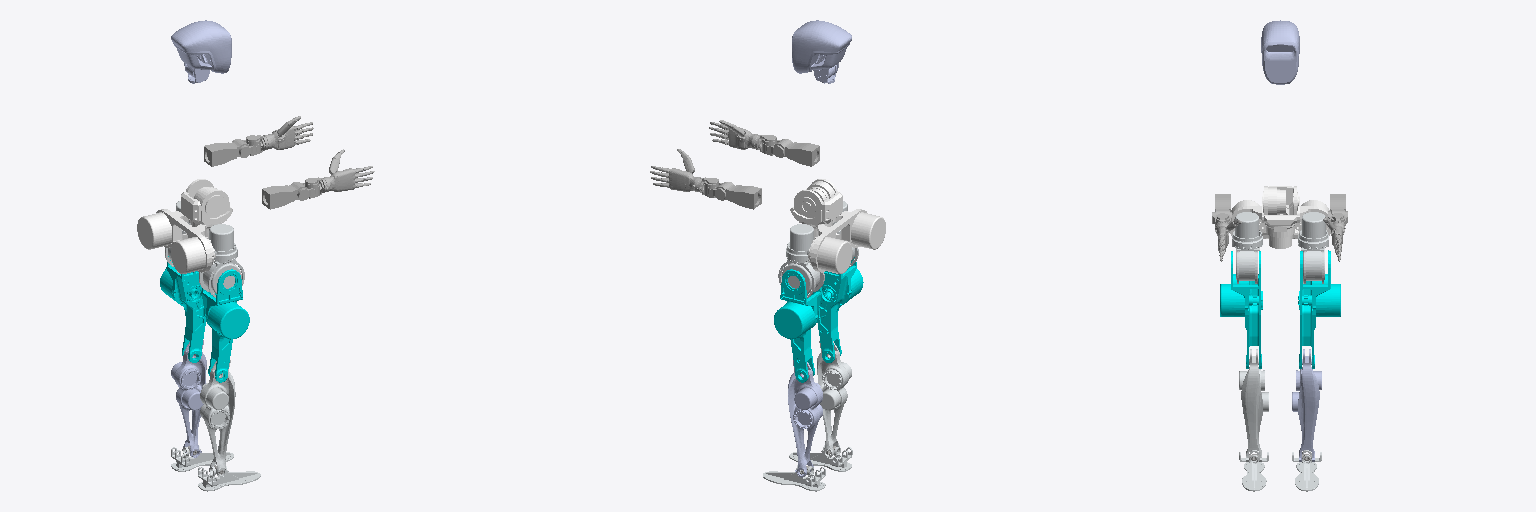
--- Render facts (derived) ---
The picture shows the robot from 3 angles, left to right: view 1: azimuth 30°, elevation 25°; view 2: azimuth 150°, elevation 25°; view 3: azimuth 270°, elevation 25°; orthographic projection.
Model Loong with 27 links and 26 joints (12 revolute, 14 fixed), rooted at base_link, posed all joints at 0.
Links seen in each view (by area): view 1: waist_yaw_Link, right_hip_pitch_Link, head_pitch_Link, right_knee_pitch_Link, left_hip_pitch_Link, Link_arm_r_05, Link_arm_l_05, left_knee_pitch_Link, waist_pitch_Link, right_ankle_roll_Link, right_hip_roll_Link, right_hip_yaw_Link (+1 smaller); view 2: waist_yaw_Link, left_hip_pitch_Link, head_pitch_Link, right_hip_pitch_Link, left_knee_pitch_Link, Link_arm_l_05, Link_arm_r_05, right_knee_pitch_Link, waist_pitch_Link, left_ankle_roll_Link, left_hip_roll_Link, left_hip_yaw_Link (+1 smaller); view 3: left_hip_pitch_Link, head_pitch_Link, right_hip_pitch_Link, left_knee_pitch_Link, right_knee_pitch_Link, waist_yaw_Link, waist_pitch_Link, Link_arm_r_05, left_hip_roll_Link, right_hip_roll_Link, Link_arm_l_05, right_ankle_roll_Link (+3 smaller).
Boxes of the visible links, x1,y1,x2,y2 form: waist_yaw_Link: (137, 209, 224, 273); right_hip_pitch_Link: (201, 269, 249, 382); head_pitch_Link: (171, 20, 231, 81); right_knee_pitch_Link: (200, 360, 235, 477); left_hip_pitch_Link: (160, 256, 205, 362); Link_arm_r_05: (262, 149, 374, 209); Link_arm_l_05: (204, 116, 313, 166); left_knee_pitch_Link: (171, 340, 206, 457); waist_pitch_Link: (181, 179, 232, 224); right_ankle_roll_Link: (198, 466, 260, 491); right_hip_roll_Link: (209, 224, 237, 263); right_hip_yaw_Link: (199, 259, 244, 297); waist_yaw_Link: (799, 209, 885, 273); left_hip_pitch_Link: (774, 269, 821, 382); head_pitch_Link: (792, 20, 851, 81); right_hip_pitch_Link: (817, 257, 863, 362); left_knee_pitch_Link: (788, 360, 822, 477); Link_arm_l_05: (650, 149, 761, 209); Link_arm_r_05: (709, 120, 819, 166); right_knee_pitch_Link: (817, 341, 851, 457); waist_pitch_Link: (790, 179, 842, 225); left_ankle_roll_Link: (763, 465, 825, 491); left_hip_roll_Link: (786, 224, 813, 263); left_hip_yaw_Link: (778, 259, 824, 297); left_hip_pitch_Link: (1298, 250, 1340, 368); head_pitch_Link: (1261, 20, 1299, 84); right_hip_pitch_Link: (1220, 251, 1262, 368); left_knee_pitch_Link: (1292, 349, 1321, 461); right_knee_pitch_Link: (1239, 349, 1268, 461); waist_yaw_Link: (1230, 200, 1330, 248); waist_pitch_Link: (1262, 186, 1299, 225); Link_arm_r_05: (1212, 194, 1241, 261); left_hip_roll_Link: (1298, 212, 1328, 249); right_hip_roll_Link: (1232, 212, 1262, 249); Link_arm_l_05: (1323, 194, 1347, 261); right_ankle_roll_Link: (1239, 450, 1268, 491).
Bounding box of the posed robot: 0.7669 × 0.4989 × 1.81 m (x, y, z).
18 mesh visuals loaded from 27 distinct referenced files (18 binary STL); not drawn: 9 (reference not matched to a file when rendering).

The robot description file, URDF, robot "Loong":
<?xml version="1.0" encoding="utf-8"?>
<!-- This URDF was automatically created by SolidWorks to URDF Exporter! Originally created by Stephen Brawner ([email redacted]) 
     Commit Version: 1.6.0-4-g7f85cfe  Build Version: 1.6.7995.38578
     For more information, please see http://wiki.ros.org/sw_urdf_exporter -->
<robot
  name="Loong">
  <mujoco>
    <compiler
      meshdir="meshes/"
      balanceinertia="true"
      discardvisual="false" />
  </mujoco>
  <link
    name="base_link">
    <inertial>
      <origin
        xyz="0.00071666 0.00012119 -0.00490208"
        rpy="0 0 0" />
      <mass
        value="25.21" />
      <inertia
        ixx="0.53369932"
        ixy="-0.00080377"
        ixz="0.02051517"
        iyy="0.50303113"
        iyz="-0.00159044"
        izz="0.29146615" />
    </inertial>
    <visual>
      <origin
        xyz="0 0 0"
        rpy="0 0 0" />
      <geometry>
        <mesh
          filename="meshes/base_link.STL" />
      </geometry>
      <material
        name="">
        <color
          rgba="0.79216 0.81961 0.93333 1" />
      </material>
    </visual>
    <collision>
      <origin
        xyz="0 0 0"
        rpy="0 0 0" />
      <geometry>
        <mesh
          filename="meshes/base_link.STL" />
      </geometry>
    </collision>
  </link>
  <link
    name="Link_arm_l_01">
    <inertial>
      <origin
        xyz="-0.0046426 0.0571151 -0.0000339"
        rpy="0 0 0" />
      <mass
        value="0.999469576" />
      <inertia
        ixx="0.0008199"
        ixy="0.0000161"
        ixz="0.0000013"
        iyy="0.0007528"
        iyz="0.0000001"
        izz="0.0009117" />
    </inertial>
    <visual>
      <origin
        xyz="0 0 0"
        rpy="0 0 0" />
      <geometry>
        <mesh
          filename="meshes/Link_arm_l_01.STL" />
      </geometry>
      <material
        name="">
        <color
          rgba="0.75294 0.75294 0.75294 1" />
      </material>
    </visual>
    <!-- <collision>
      <origin
        xyz="0 0 0"
        rpy="0 0 0" />
      <geometry>
        <mesh
          filename="meshes/Link_arm_l_01.STL" />
      </geometry>
    </collision> -->
  </link>
  <joint
    name="J_arm_l_01"
    type="fixed">
    <origin
      xyz="0.02 0.15 0.128"
      rpy="0 0 0" />
    <parent
      link="base_link" />
    <child
      link="Link_arm_l_01" />
    <axis
      xyz="0 -1 0" />
    <limit
      lower="-2.181661565"
      upper="3.752457892"
      effort="80"
      velocity="3.14" />
  </joint>
  <link
    name="Link_arm_l_02">
    <inertial>
      <origin
        xyz="-0.0010619 0.0788156 -0.0000094"
        rpy="0 0 0" />
      <mass
        value="1.2000362" />
      <inertia
        ixx="0.0018536"
        ixy="-0.0000661"
        ixz="0.0000007"
        iyy="0.0012457"
        iyz="0.0000001"
        izz="0.002266" />
    </inertial>
    <visual>
      <origin
        xyz="0 0 0"
        rpy="0 0 0" />
      <geometry>
        <mesh
          filename="meshes/Link_arm_l_02.STL" />
      </geometry>
      <material
        name="">
        <color
          rgba="0.75294 0.75294 0.75294 1" />
      </material>
    </visual>
    <!-- <collision>
      <origin
        xyz="0 0 0"
        rpy="0 0 0" />
      <geometry>
        <mesh
          filename="meshes/Link_arm_l_02.STL" />
      </geometry>
    </collision> -->
  </link>
  <joint
    name="J_arm_l_02"
    type="fixed">
    <origin
      xyz="0 0.062 0"
      rpy="-1.57 0 0" />
    <parent
      link="Link_arm_l_01" />
    <child
      link="Link_arm_l_02" />
    <axis
      xyz="1 0 0" />
    <limit
      lower="-1.832595715"
      upper="1.832595715"
      effort="80"
      velocity="3.14" />
  </joint>
  <link
    name="Link_arm_l_03">
    <inertial>
      <origin
        xyz="-0.0062837 0.1617365 0.020381"
        rpy="0 0 0" />
      <mass
        value="1.05028474" />
      <inertia
        ixx="0.0025455"
        ixy="0.000105"
        ixz="0.0000236"
        iyy="0.0007975"
        iyz="-0.0003435"
        izz="0.0024808" />
    </inertial>
    <visual>
      <origin
        xyz="0 0 0"
        rpy="0 0 0" />
      <geometry>
        <mesh
          filename="meshes/Link_arm_l_03.STL" />
      </geometry>
      <material
        name="">
        <color
          rgba="0.75294 0.75294 0.75294 1" />
      </material>
    </visual>
    <!-- <collision>
      <origin
        xyz="0 0 0"
        rpy="0 0 0" />
      <geometry>
        <mesh
          filename="meshes/Link_arm_l_03.STL" />
      </geometry>
    </collision> -->
  </link>
  <joint
    name="J_arm_l_03"
    type="fixed">
    <origin
      xyz="0 0.1226 -4.5237E-05"
      rpy="0 1.57 0" />
    <parent
      link="Link_arm_l_02" />
    <child
      link="Link_arm_l_03" />
    <axis
      xyz="0 1 0" />
    <limit
      lower="-2.967059728"
      upper="2.967059728"
      effort="48"
      velocity="3.14" />
  </joint>
  <link
    name="Link_arm_l_04">
    <inertial>
      <origin
        xyz="-0.0031896 0.0686669 -0.0204404"
        rpy="0 0 0" />
      <mass
        value="0.80390762" />
      <inertia
        ixx="0.0010455"
        ixy="-0.0001055"
        ixz="0.0000164"
        iyy="0.0006977"
        iyz="0.000155"
        izz="0.0013839" />
    </inertial>
    <visual>
      <origin
        xyz="0 0 0"
        rpy="0 0 0" />
      <geometry>
        <mesh
          filename="meshes/Link_arm_l_04.STL" />
      </geometry>
      <material
        name="">
        <color
          rgba="0.75294 0.75294 0.75294 1" />
      </material>
    </visual>
    <!-- <collision>
      <origin
        xyz="0 0 0"
        rpy="0 0 0" />
      <geometry>
        <mesh
          filename="meshes/Link_arm_l_04.STL" />
      </geometry>
    </collision> -->
  </link>
  <joint
    name="J_arm_l_04"
    type="fixed">
    <origin
      xyz="0 0.1774 0.024"
      rpy="1.57 0 0" />
    <parent
      link="Link_arm_l_03" />
    <child
      link="Link_arm_l_04" />
    <axis
      xyz="-1 0 0" />
    <limit
      lower="-2.967059728"
      upper="2.967059728"
      effort="48"
      velocity="3.14" />
  </joint>
  <link
    name="Link_arm_l_05">
    <inertial>
      <origin
        xyz="-0.0045361 0.0998432 -0.000004"
        rpy="0 0 0" />
      <mass
        value="0.80390762" />
      <inertia
        ixx="0.0022061"
        ixy="0.0001485"
        ixz="-0.0000004"
        iyy="0.0004108"
        iyz="-0.0000009"
        izz="0.0022172" />
    </inertial>
    <visual>
      <origin
        xyz="0 0 0"
        rpy="0 0 0" />
      <geometry>
        <mesh
          filename="meshes/Link_arm_l_567.STL" />
      </geometry>
      <material
        name="">
        <color
          rgba="0.75294 0.75294 0.75294 1" />
      </material>
    </visual>
    <!-- <collision>
      <origin
        xyz="0 0 0"
        rpy="0 0 0" />
      <geometry>
        <mesh
          filename="meshes/Link_arm_l_567.STL" />
      </geometry>
    </collision> -->
  </link>
  <joint
    name="J_arm_l_05"
    type="fixed">
    <origin
      xyz="0 0.107 -0.024"
      rpy="0 0 0" />
    <parent
      link="Link_arm_l_04" />
    <child
      link="Link_arm_l_05" />
    <axis
      xyz="0 1 0" />
    <limit
      lower="-2.967059728"
      upper="2.967059728"
      effort="12.4"
      velocity="3.14" />
  </joint>
  <link
    name="Link_arm_r_01">
    <inertial>
      <origin
        xyz="0.0046514 -0.0571164 -0.0000339"
        rpy="0 0 0" />
      <mass
        value="1.0002100" />
      <inertia
        ixx="0.0008199"
        ixy="0.0000161"
        ixz="-0.0000013"
        iyy="0.0007528"
        iyz="-0.0000001"
        izz="0.000911" />
    </inertial>
    <visual>
      <origin
        xyz="0 0 0"
        rpy="0 0 0" />
      <geometry>
        <mesh
          filename="meshes/Link_arm_r_01.STL" />
      </geometry>
      <material
        name="">
        <color
          rgba="0.75294 0.75294 0.75294 1" />
      </material>
    </visual>
    <!-- <collision>
      <origin
        xyz="0 0 0"
        rpy="0 0 0" />
      <geometry>
        <mesh
          filename="meshes/Link_arm_r_01.STL" />
      </geometry>
    </collision> -->
  </link>
  <joint
    name="J_arm_r_01"
    type="fixed">
    <origin
      xyz="0.02 -0.15 0.128"
      rpy="0 0 0" />
    <parent
      link="base_link" />
    <child
      link="Link_arm_r_01" />
    <axis
      xyz="0 -1 0" />
    <limit
      lower="-2.181661565"
      upper="3.752457892"
      effort="80"
      velocity="3.14" />
  </joint>
  <link
    name="Link_arm_r_02">
    <inertial>
      <origin
        xyz="0.0010619 -0.0788156 -0.0000094"
        rpy="0 0 0" />
      <mass
        value="1.19958456" />
      <inertia
        ixx="0.0018536"
        ixy="-0.0000661"
        ixz="-0.0000007"
        iyy="0.0012457"
        iyz="-0.0000001"
        izz="0.002266" />
    </inertial>
    <visual>
      <origin
        xyz="0 0 0"
        rpy="0 0 0" />
      <geometry>
        <mesh
          filename="meshes/Link_arm_r_02.STL" />
      </geometry>
      <material
        name="">
        <color
          rgba="0.75294 0.75294 0.75294 1" />
      </material>
    </visual>
    <!-- <collision>
      <origin
        xyz="0 0 0"
        rpy="0 0 0" />
      <geometry>
        <mesh
          filename="meshes/Link_arm_r_02.STL" />
      </geometry>
    </collision> -->
  </link>
  <joint
    name="J_arm_r_02"
    type="fixed">
    <origin
      xyz="0 -0.062 0"
      rpy="1.57 0 0" />
    <parent
      link="Link_arm_r_01" />
    <child
      link="Link_arm_r_02" />
    <axis
      xyz="1 0 0" />
    <limit
      lower="-1.8326"
      upper="1.8326"
      effort="80"
      velocity="3.14" />
  </joint>
  <link
    name="Link_arm_r_03">
    <inertial>
      <origin
        xyz="0.0062837 -0.1617365 0.020381"
        rpy="0 0 0" />
      <mass
        value="1.0507333" />
      <inertia
        ixx="0.0025455"
        ixy="0.000105"
        ixz="-0.0000236"
        iyy="0.0007975"
        iyz="0.0003435"
        izz="0.0024808" />
    </inertial>
    <visual>
      <origin
        xyz="0 0 0"
        rpy="0 0 0" />
      <geometry>
        <mesh
          filename="meshes/Link_arm_r_03.STL" />
      </geometry>
      <material
        name="">
        <color
          rgba="0.75294 0.75294 0.75294 1" />
      </material>
    </visual>
    <!-- <collision>
      <origin
        xyz="0 0 0"
        rpy="0 0 0" />
      <geometry>
        <mesh
          filename="meshes/Link_arm_r_03.STL" />
      </geometry>
    </collision> -->
  </link>
  <joint
    name="J_arm_r_03"
    type="fixed">
    <origin
      xyz="0 -0.1226 -4.5237E-05"
      rpy="0 1.57 0" />
    <parent
      link="Link_arm_r_02" />
    <child
      link="Link_arm_r_03" />
    <axis
      xyz="0 -1 0" />
    <limit
      lower="-2.967059728"
      upper="2.967059728"
      effort="48"
      velocity="3.14" />
  </joint>
  <link
    name="Link_arm_r_04">
    <inertial>
      <origin
        xyz="0.0031896 -0.0686669 -0.0204404"
        rpy="0 0 0" />
      <mass
        value="0.688970829" />
      <inertia
        ixx="0.0010455"
        ixy="-0.0001055"
        ixz="-0.0000164"
        iyy="0.0006977"
        iyz="-0.000155"
        izz="0.0013839" />
    </inertial>
    <visual>
      <origin
        xyz="0 0 0"
        rpy="0 0 0" />
      <geometry>
        <mesh
          filename="meshes/Link_arm_r_04.STL" />
      </geometry>
      <material
        name="">
        <color
          rgba="0.75294 0.75294 0.75294 1" />
      </material>
    </visual>
    <!-- <collision>
      <origin
        xyz="0 0 0"
        rpy="0 0 0" />
      <geometry>
        <mesh
          filename="meshes/Link_arm_r_04.STL" />
      </geometry>
    </collision> -->
  </link>
  <joint
    name="J_arm_r_04"
    type="fixed">
    <origin
      xyz="0 -0.1774 0.024045"
      rpy="-1.57 0 0" />
    <parent
      link="Link_arm_r_03" />
    <child
      link="Link_arm_r_04" />
    <axis
      xyz="1 0 0" />
    <limit
      lower="-2.967059728"
      upper="2.967059728"
      effort="48"
      velocity="3.14" />
  </joint>
  <link
    name="Link_arm_r_05">
    <inertial>
      <origin
        xyz="0.0045361 -0.0998432 -0.000004"
        rpy="0 0 0" />
      <mass
        value="0.80390762" />
      <inertia
        ixx="0.0022061"
        ixy="0.0001485"
        ixz="0.0000004"
        iyy="0.0004107"
        iyz="0.0000009"
        izz="0.0022172" />
    </inertial>
    <visual>
      <origin
        xyz="0 0 0"
        rpy="0 0 0" />
      <geometry>
        <mesh
          filename="meshes/Link_arm_r_567.STL" />
      </geometry>
      <material
        name="">
        <color
          rgba="0.75294 0.75294 0.75294 1" />
      </material>
    </visual>
    <!-- <collision>
      <origin
        xyz="0 0 0"
        rpy="0 0 0" />
      <geometry>
        <mesh
          filename="meshes/Link_arm_r_567.STL" />
      </geometry>
    </collision> -->
  </link>
  <joint
    name="J_arm_r_05"
    type="fixed">
    <origin
      xyz="0 -0.107 -0.024045"
      rpy="0 0 0" />
    <parent
      link="Link_arm_r_04" />
    <child
      link="Link_arm_r_05" />
    <axis
      xyz="0 -1 0" />
    <limit
      lower="-2.967059728"
      upper="2.967059728"
      effort="12.8"
      velocity="3.14" />
  </joint>
  <link
    name="head_yaw_Link">
    <inertial>
      <origin
        xyz="-0.0025482 0.0015048 0.023802"
        rpy="0 0 0" />
      <mass
        value="0.098" />
      <inertia
        ixx="8.89E-05"
        ixy="-2E-08"
        ixz="-3.49E-06"
        iyy="6.713E-05"
        iyz="-3.59E-06"
        izz="7.441E-05" />
    </inertial>
    <visual>
      <origin
        xyz="0 0 0"
        rpy="0 0 0" />
      <geometry>
        <mesh
          filename="meshes/head_yaw_Link.STL" />
      </geometry>
      <material
        name="">
        <color
          rgba="0.79216 0.81961 0.93333 1" />
      </material>
    </visual>
    <!-- <collision>
      <origin
        xyz="0 0 0"
        rpy="0 0 0" />
      <geometry>
        <mesh
          filename="meshes/head_yaw_Link.STL" />
      </geometry>
    </collision> -->
  </link>
  <joint
    name="head_yaw"
    type="fixed">
    <origin
      xyz="-0.014494 0.00098824 0.22972"
      rpy="0 0 0" />
    <parent
      link="base_link" />
    <child
      link="head_yaw_Link" />
    <axis
      xyz="0 0 1" />
    <limit
      lower="-1.570796"
      upper="1.570796"
      effort="26"
      velocity="109.8" />
  </joint>
  <link
    name="head_pitch_Link">
    <inertial>
      <origin
        xyz="0.040609 0.00054768 0.083175"
        rpy="0 0 0" />
      <mass
        value="1.895" />
      <inertia
        ixx="0.00876412"
        ixy="7.419E-05"
        ixz="-0.00074716"
        iyy="0.01113175"
        iyz="0.00014478"
        izz="0.00710425" />
    </inertial>
    <visual>
      <origin
        xyz="0 0 0"
        rpy="0 0 0" />
      <geometry>
        <mesh
          filename="meshes/head_pitch_Link.STL" />
      </geometry>
      <material
        name="">
        <color
          rgba="0.79216 0.81961 0.93333 1" />
      </material>
    </visual>
    <!-- <collision>
      <origin
        xyz="0 0 0"
        rpy="0 0 0" />
      <geometry>
        <mesh
          filename="meshes/head_pitch_Link.STL" />
      </geometry>
    </collision> -->
  </link>
  <joint
    name="head_pitch"
    type="fixed">
    <origin
      xyz="0 0 0.044"
      rpy="0 0 0" />
    <parent
      link="head_yaw_Link" />
    <child
      link="head_pitch_Link" />
    <axis
      xyz="0 1 0" />
    <limit
      lower="-0.7853982"
      upper="0.7853982"
      effort="26"
      velocity="109.8" />
  </joint>
  <link
    name="waist_pitch_Link">
    <inertial>
      <origin
        xyz="-0.0022566 -0.0084061 -0.015741"
        rpy="0 0 0" />
      <mass
        value="2.776" />
      <inertia
        ixx="0.007661"
        ixy="5.266E-05"
        ixz="2.581E-05"
        iyy="0.0064325"
        iyz="0.00039528"
        izz="0.0073467" />
    </inertial>
    <visual>
      <origin
        xyz="0 0 0"
        rpy="0 0 0" />
      <geometry>
        <mesh
          filename="meshes/waist_pitch_Link.STL" />
      </geometry>
      <material
        name="">
        <color
          rgba="1 1 1 1" />
      </material>
    </visual>
    <!-- <collision>
      <origin
        xyz="0 0 0"
        rpy="0 0 0" />
      <geometry>
        <mesh
          filename="meshes/waist_pitch_Link.STL" />
      </geometry>
    </collision> -->
  </link>
  <joint
    name="waist_pitch"
    type="fixed">
    <origin
      xyz="0.026331 0.00098824 -0.25604"
      rpy="0 0 0" />
    <parent
      link="base_link" />
    <child
      link="waist_pitch_Link" />
    <axis
      xyz="0 -1 0" />
    <limit
      lower="-0.2967"
      upper="1.0472"
      effort="315"
      velocity="3.14" />
  </joint>
  <link
    name="waist_yaw_Link">
    <inertial>
      <origin
        xyz="-0.086144 2.453E-05 -0.06455"
        rpy="0 0 0" />
      <mass
        value="10.326" />
      <inertia
        ixx="0.1193274"
        ixy="-1.48E-06"
        ixz="-0.00548656"
        iyy="0.05323762"
        iyz="-7E-07"
        izz="0.1483694" />
    </inertial>
    <visual>
      <origin
        xyz="0 0 0"
        rpy="0 0 0" />
      <geometry>
        <mesh
          filename="meshes/waist_yaw_Link.STL" />
      </geometry>
      <material
        name="">
        <color
          rgba="1 1 1 1" />
      </material>
    </visual>
    <!-- <collision>
      <origin
        xyz="0 0 0"
        rpy="0 0 0" />
      <geometry>
        <mesh
          filename="meshes/waist_yaw_Link.STL" />
      </geometry>
    </collision> -->
  </link>
  <joint
    name="waist_yaw"
    type="fixed">
    <origin
      xyz="0 0 -0.067"
      rpy="0 0 0" />
    <parent
      link="waist_pitch_Link" />
    <child
      link="waist_yaw_Link" />
    <axis
      xyz="0 0 1" />
    <limit
      lower="-0.7854"
      upper="0.7854"
      effort="121"
      velocity="5.92" />
  </joint>
  <link
    name="left_hip_roll_Link">
    <inertial>
      <origin
        xyz="-0.0071093 2.8357E-09 0.011648"
        rpy="0 0 0" />
      <mass
        value="2.2022" />
      <inertia
        ixx="0.00362811"
        ixy="2.0319E-10"
        ixz="-0.00016803"
        iyy="0.00450214"
        iyz="8.4518E-10"
        izz="0.00390996" />
    </inertial>
    <visual>
      <origin
        xyz="0 0 0"
        rpy="0 0 0" />
      <geometry>
        <mesh
          filename="meshes/left_hip_roll_Link.STL" />
      </geometry>
      <material
        name="">
        <color
          rgba="0.89804 0.91765 0.92941 1" />
      </material>
    </visual>
    <!-- <collision>
      <origin
        xyz="0 0 0"
        rpy="0 0 0" />
      <geometry>
        <mesh
          filename="meshes/left_hip_roll_Link.STL" />
      </geometry>
    </collision> -->
  </link>
  <joint
    name="J_hip_l_roll"
    type="revolute">
    <origin
      xyz="-0.00925 0.1225 -0.073"
      rpy="0 0 0" />
    <parent
      link="waist_yaw_Link" />
    <child
      link="left_hip_roll_Link" />
    <axis
      xyz="1 0 0" />
    <limit
      lower="-0.1745"
      upper="0.4363"
      effort="320"
      velocity="20.94" />
  </joint>
  <link
    name="left_hip_yaw_Link">
    <inertial>
      <origin
        xyz="-0.00015478 -0.00018896 -0.10934"
        rpy="0 0 0" />
      <mass
        value="2.9844" />
      <inertia
        ixx="0.00617341"
        ixy="1.4537E-05"
        ixz="2.176E-05"
        iyy="0.00757524"
        iyz="9.283E-05"
        izz="0.0050241" />
    </inertial>
    <visual>
      <origin
        xyz="0 0 0"
        rpy="0 0 0" />
      <geometry>
        <mesh
          filename="meshes/left_hip_yaw_Link.STL" />
      </geometry>
      <material
        name="">
        <color
          rgba="0.89804 0.91765 0.92941 1" />
      </material>
    </visual>
    <!-- <collision>
      <origin
        xyz="0 0 0"
        rpy="0 0 0" />
      <geometry>
        <mesh
          filename="meshes/left_hip_yaw_Link.STL" />
      </geometry>
    </collision> -->
  </link>
  <joint
    name="J_hip_l_yaw"
    type="revolute">
    <origin
      xyz="0 0 0"
      rpy="0 0 0" />
    <parent
      link="left_hip_roll_Link" />
    <child
      link="left_hip_yaw_Link" />
    <axis
      xyz="0 0 1" />
    <limit
      lower="-0.6981"
      upper="0.6981"
      effort="160"
      velocity="19.63" />
  </joint>
  <link
    name="left_hip_pitch_Link">
    <inertial>
      <origin
        xyz="0.00177882 0.05261815 -0.15609768"
        rpy="0 0 0" />
      <mass
        value="6.27653015" />
      <inertia
        ixx="0.06504876"
        ixy="0.00046758"
        ixz="0.00145443"
        iyy="0.05963724"
        iyz="-0.00612516"
        izz="0.01840258" />
    </inertial>
    <visual>
      <origin
        xyz="0 0 0"
        rpy="0 0 0" />
      <geometry>
        <mesh
          filename="meshes/left_hip_pitch_Link.STL" />
      </geometry>
      <material
        name="">
        <color
          rgba="0 0.97647 0.98824 1" />
      </material>
    </visual>
    <!-- <collision>
      <origin
        xyz="0 0 0"
        rpy="0 0 0" />
      <geometry>
        <mesh
          filename="meshes/left_hip_pitch_Link.STL" />
      </geometry>
    </collision> -->
  </link>
  <joint
    name="J_hip_l_pitch"
    type="revolute">
    <origin
      xyz="0 -0.039 -0.1155"
      rpy="0 0 0" />
    <parent
      link="left_hip_yaw_Link" />
    <child
      link="left_hip_pitch_Link" />
    <axis
      xyz="0 -1 0" />
    <limit
      lower="-1.3439"
      upper="1.8849"
      effort="396"
      velocity="19.16" />
  </joint>
  <link
    name="left_knee_pitch_Link">
    <inertial>
      <origin
        xyz="0.00330593 0.00172774 -0.13555163"
        rpy="0 0 0" />
      <mass
        value="4.8125541" />
      <inertia
        ixx="0.04565419"
        ixy="-0.00023225"
        ixz="-0.00055359"
        iyy="0.0475434"
        iyz="-0.00053687"
        izz="0.00576172" />
    </inertial>
    <visual>
      <origin
        xyz="0 0 0"
        rpy="0 0 0" />
      <geometry>
        <mesh
          filename="meshes/left_knee_pitch_Link.STL" />
      </geometry>
      <material
        name="">
        <color
          rgba="0.79216 0.81961 0.93333 1" />
      </material>
    </visual>
    <collision>
      <origin
        xyz="0 0 0"
        rpy="0 0 0" />
      <geometry>
        <mesh
          filename="meshes/left_knee_pitch_Link.STL" />
      </geometry>
    </collision>
  </link>
  <joint
    name="J_knee_l_pitch"
    type="revolute">
    <origin
      xyz="0 0.0135 -0.4"
      rpy="0 0 0" />
    <parent
      link="left_hip_pitch_Link" />
    <child
      link="left_knee_pitch_Link" />
    <axis
      xyz="0 -1 0" />
    <limit
      lower="-2.0944"
      upper="0.087266"
      effort="396"
      velocity="19.16" />
  </joint>
  <link
    name="left_ankle_pitch_Link">
    <inertial>
      <origin
        xyz="-7.8908E-07 5.0819E-07 1.9225E-08"
        rpy="0 0 0" />
      <mass
        value="0.053498" />
      <inertia
        ixx="1.1895E-05"
        ixy="4.7402E-11"
        ixz="9.4436E-13"
        iyy="3.3766E-06"
        iyz="-1.8984E-11"
        izz="1.1543E-05" />
    </inertial>
    <visual>
      <origin
        xyz="0 0 0"
        rpy="0 0 0" />
      <geometry>
        <mesh
          filename="meshes/left_ankle_pitch_Link.STL" />
      </geometry>
      <material
        name="">
        <color
          rgba="0.69804 0.69804 0.69804 1" />
      </material>
    </visual>
    <!-- <collision>
      <origin
        xyz="0 0 0"
        rpy="0 0 0" />
      <geometry>
        <mesh
          filename="meshes/left_ankle_pitch_Link.STL" />
      </geometry>
    </collision> -->
  </link>
  <joint
    name="J_ankle_l_pitch"
    type="revolute">
    <origin
      xyz="0 0 -0.387"
      rpy="0 0 0" />
    <parent
      link="left_knee_pitch_Link" />
    <child
      link="left_ankle_pitch_Link" />
    <axis
      xyz="0 -1 0" />
    <limit
      lower="-0.5235987"
      upper="1.04719755"
      effort="58.5"
      velocity="48.8" />
  </joint>
  <link
    name="left_ankle_roll_Link">
    <inertial>
      <origin
        xyz="0.022588 6.3181E-06 -0.042746"
        rpy="0 0 0" />
      <mass
        value="0.56912" />
      <inertia
        ixx="0.00036156"
        ixy="-6.5455E-07"
        ixz="-0.00022453"
        iyy="0.0023159"
        iyz="-5.0555E-08"
        izz="0.0023809" />
    </inertial>
    <visual>
      <origin
        xyz="0 0 0"
        rpy="0 0 0" />
      <geometry>
        <mesh
          filename="meshes/left_ankle_roll_Link.STL" />
      </geometry>
      <material
        name="">
        <color
          rgba="0.89804 0.91765 0.92941 1" />
      </material>
    </visual>
    <!-- <collision>
      <origin
        xyz="0 0 0"
        rpy="0 0 0" />
      <geometry>
        <mesh
          filename="meshes/left_ankle_roll_Link.STL" />
      </geometry>
    </collision> -->
    <!-- <collision>
      <origin xyz="-0.05 0.03 -0.05" rpy="0 0 0"/>
      <geometry>
        <sphere radius="0.01"/>
      </geometry>
    </collision>
    <collision>
      <origin xyz="-0.05 -0.03 -0.05" rpy="0 0 0"/>
      <geometry>
        <sphere radius="0.01"/>
      </geometry>
    </collision>
    <collision>
      <origin xyz="0.13 0.04 -0.05" rpy="0 0 0"/>
      <geometry>
        <sphere radius="0.01"/>
      </geometry>
    </collision>
    <collision>
      <origin xyz="0.13 -0.04 -0.05" rpy="0 0 0"/>
      <geometry>
        <sphere radius="0.01"/>
      </geometry>
    </collision> -->
    <collision>
            <origin rpy="0.00000000 1.5708 0.00000000" xyz="0.0485000 -0.04000000 -0.05600000"/>
            <geometry>
                <cylinder radius="0.00500000" length="0.2400000"/>
            </geometry>
    </collision>
    <collision>
    <origin rpy="0.00000000 1.5708 0.00000000" xyz="0.0485000 0.04000000 -0.05600000"/>
            <geometry>
                <!-- <sphere radius="0.02" /> -->
                <cylinder radius="0.00500000" length="0.2400000"/>
            </geometry>
    </collision>
  </link>
  <joint
    name="J_ankle_l_roll"
    type="revolute">
    <origin
      xyz="0 0 0"
      rpy="0 0 0" />
    <parent
      link="left_ankle_pitch_Link" />
    <child
      link="left_ankle_roll_Link" />
    <axis
      xyz="1 0 0" />
    <limit
      lower="-0.4363323"
      upper="0.4363323"
      effort="58.5"
      velocity="48.8" />
  </joint>
  <link
    name="right_hip_roll_Link">
    <inertial>
      <origin
        xyz="-0.0071093 2.8357E-09 0.011648"
        rpy="0 0 0" />
      <mass
        value="2.2022" />
      <inertia
        ixx="0.00362811"
        ixy="2.0319E-10"
        ixz="-0.00016803"
        iyy="0.00450214"
        iyz="8.4518E-10"
        izz="0.00390996" />
    </inertial>
    <visual>
      <origin
        xyz="0 0 0"
        rpy="0 0 0" />
      <geometry>
        <mesh
          filename="meshes/right_hip_roll_Link.STL" />
      </geometry>
      <material
        name="">
        <color
          rgba="0.89804 0.91765 0.92941 1" />
      </material>
    </visual>
    <!-- <collision>
      <origin
        xyz="0 0 0"
        rpy="0 0 0" />
      <geometry>
        <mesh
          filename="meshes/right_hip_roll_Link.STL" />
      </geometry>
    </collision> -->
  </link>
  <joint
    name="J_hip_r_roll"
    type="revolute">
    <origin
      xyz="-0.00925 -0.1225 -0.073"
      rpy="0 0 0" />
    <parent
      link="waist_yaw_Link" />
    <child
      link="right_hip_roll_Link" />
    <axis
      xyz="1 0 0" />
    <limit
      lower="-0.4363"
      upper="0.1745"
      effort="320"
      velocity="20.94" />
  </joint>
  <link
    name="right_hip_yaw_Link">
    <inertial>
      <origin
        xyz="-0.00015477 0.00019016 -0.1093378"
        rpy="0 0 0" />
      <mass
        value="2.9842" />
      <inertia
        ixx="0.0061728"
        ixy="1.933E-05"
        ixz="2.177E-05"
        iyy="0.0075744"
        iyz="-9.257E-05"
        izz="0.0050233" />
    </inertial>
    <visual>
      <origin
        xyz="0 0 0"
        rpy="0 0 0" />
      <geometry>
        <mesh
          filename="meshes/right_hip_yaw_Link.STL" />
      </geometry>
      <material
        name="">
        <color
          rgba="0.89804 0.91765 0.92941 1" />
      </material>
    </visual>
    <!-- <collision>
      <origin
        xyz="0 0 0"
        rpy="0 0 0" />
      <geometry>
        <mesh
          filename="meshes/right_hip_yaw_Link.STL" />
      </geometry>
    </collision> -->
  </link>
  <joint
    name="J_hip_r_yaw"
    type="revolute">
    <origin
      xyz="0 0 0"
      rpy="0 0 0" />
    <parent
      link="right_hip_roll_Link" />
    <child
      link="right_hip_yaw_Link" />
    <axis
      xyz="0 0 1" />
    <limit
      lower="-0.6981"
      upper="0.6981"
      effort="160"
      velocity="19.63" />
  </joint>
  <link
    name="right_hip_pitch_Link">
    <inertial>
      <origin
        xyz="0.00176813 -0.05261512 -0.15611085"
        rpy="0 0 0" />
      <mass
        value="6.27653015" />
      <inertia
        ixx="0.06508151"
        ixy="-0.00046139"
        ixz="0.00145675"
        iyy="0.05966725"
        iyz="0.00613035"
        izz="0.01840604" />
    </inertial>
    <visual>
      <origin
        xyz="0 0 0"
        rpy="0 0 0" />
      <geometry>
        <mesh
          filename="meshes/right_hip_pitch_Link.STL" />
      </geometry>
      <material
        name="">
        <color
          rgba="0 0.97647 0.98824 1" />
      </material>
    </visual>
    <!-- <collision>
      <origin
        xyz="0 0 0"
        rpy="0 0 0" />
      <geometry>
        <mesh
          filename="meshes/right_hip_pitch_Link.STL" />
      </geometry>
    </collision> -->
  </link>
  <joint
    name="J_hip_r_pitch"
    type="revolute">
    <origin
      xyz="0 0.039 -0.1155"
      rpy="0 0 0" />
    <parent
      link="right_hip_yaw_Link" />
    <child
      link="right_hip_pitch_Link" />
    <axis
      xyz="0 -1 0" />
    <limit
      lower="-1.3439"
      upper="1.8849"
      effort="396"
      velocity="19.16" />
  </joint>
  <link
    name="right_knee_pitch_Link">
    <inertial>
      <origin
        xyz="0.0032528 -0.00171723 -0.13549889"
        rpy="0 0 0" />
      <mass
        value="4.8125541" />
      <inertia
        ixx="0.0455335"
        ixy="0.00023402"
        ixz="-0.00054369"
        iyy="0.04740716"
        iyz="0.00052254"
        izz="0.00576618" />
    </inertial>
    <visual>
      <origin
        xyz="0 0 0"
        rpy="0 0 0" />
      <geometry>
        <mesh
          filename="meshes/right_knee_pitch_Link.STL" />
      </geometry>
      <material
        name="">
        <color
          rgba="0.89804 0.91765 0.92941 1" />
      </material>
    </visual>
    <collision>
      <origin
        xyz="0 0 0"
        rpy="0 0 0" />
      <geometry>
        <mesh
          filename="meshes/right_knee_pitch_Link.STL" />
      </geometry>
    </collision>
  </link>
  <joint
    name="J_knee_r_pitch"
    type="revolute">
    <origin
      xyz="0 -0.0135 -0.4"
      rpy="0 0 0" />
    <parent
      link="right_hip_pitch_Link" />
    <child
      link="right_knee_pitch_Link" />
    <axis
      xyz="0 -1 0" />
    <limit
      lower="-2.0944"
      upper="0.087266"
      effort="396"
      velocity="19.16" />
  </joint>
  <link
    name="right_ankle_pitch_Link">
    <inertial>
      <origin
        xyz="-7.8908E-07 1.1345E-07 -1.9225E-08"
        rpy="0 0 0" />
      <mass
        value="0.053498" />
      <inertia
        ixx="1.1895E-05"
        ixy="-4.7402E-11"
        ixz="-9.4436E-13"
        iyy="3.3766E-06"
        iyz="-1.8984E-11"
        izz="1.1543E-05" />
    </inertial>
    <visual>
      <origin
        xyz="0 0 0"
        rpy="0 0 0" />
      <geometry>
        <mesh
          filename="meshes/right_ankle_pitch_Link.STL" />
      </geometry>
      <material
        name="">
        <color
          rgba="0.69804 0.69804 0.69804 1" />
      </material>
    </visual>
    <!-- <collision>
      <origin
        xyz="0 0 0"
        rpy="0 0 0" />
      <geometry>
        <mesh
          filename="meshes/right_ankle_pitch_Link.STL" />
      </geometry>
    </collision> -->
  </link>
  <joint
    name="J_ankle_r_pitch"
    type="revolute">
    <origin
      xyz="0 0 -0.387"
      rpy="0 0 0" />
    <parent
      link="right_knee_pitch_Link" />
    <child
      link="right_ankle_pitch_Link" />
    <axis
      xyz="0 -1 0" />
    <limit
      lower="-0.523598"
      upper="1.0471975"
      effort="58.5"
      velocity="48.8" />
  </joint>
  <link
    name="right_ankle_roll_Link">
    <inertial>
      <origin
        xyz="0.022588 5.6965E-06 -0.042746"
        rpy="0 0 0" />
      <mass
        value="0.56912" />
      <inertia
        ixx="0.00036156"
        ixy="-6.5455E-07"
        ixz="-0.00022453"
        iyy="0.0023159"
        iyz="-5.0555E-08"
        izz="0.0023809" />
    </inertial>
    <visual>
      <origin
        xyz="0 0 0"
        rpy="0 0 0" />
      <geometry>
        <mesh
          filename="meshes/right_ankle_roll_Link.STL" />
      </geometry>
      <material
        name="">
        <color
          rgba="0.89804 0.91765 0.92941 1" />
      </material>
    </visual>
    <!-- <collision>
      <origin
        xyz="0 0 0"
        rpy="0 0 0" />
      <geometry>
        <mesh
          filename="meshes/right_ankle_roll_Link.STL" />
      </geometry>
    </collision> -->
    <!-- <collision>
      <origin xyz="-0.05 0.03 -0.05" rpy="0 0 0"/>
      <geometry>
        <sphere radius="0.01"/>
      </geometry>
    </collision>
    <collision>
      <origin xyz="-0.05 -0.03 -0.05" rpy="0 0 0"/>
      <geometry>
        <sphere radius="0.01"/>
      </geometry>
    </collision>
    <collision>
      <origin xyz="0.13 0.04 -0.05" rpy="0 0 0"/>
      <geometry>
        <sphere radius="0.01"/>
      </geometry>
    </collision>
    <collision>
      <origin xyz="0.13 -0.04 -0.05" rpy="0 0 0"/>
      <geometry>
        <sphere radius="0.01"/>
      </geometry>
    </collision> -->
    <collision>
            <origin rpy="0.00000000 1.5708 0.00000000" xyz="0.0485000 -0.04000000 -0.05600000"/>
            <geometry>
                <cylinder radius="0.00500000" length="0.2400000"/>
            </geometry>
    </collision>
    <collision>
    <origin rpy="0.00000000 1.5708 0.00000000" xyz="0.0485000 0.04000000 -0.05600000"/>
            <geometry>
                <!-- <sphere radius="0.02" /> -->
                <cylinder radius="0.00500000" length="0.2400000"/>
            </geometry>
    </collision>
  </link>
  <joint
    name="J_ankle_r_roll"
    type="revolute">
    <origin
      xyz="0 0 0"
      rpy="0 0 0" />
    <parent
      link="right_ankle_pitch_Link" />
    <child
      link="right_ankle_roll_Link" />
    <axis
      xyz="1 0 0" />
    <limit
      lower="-0.4363"
      upper="0.4363"
      effort="58.5"
      velocity="48.8" />
  </joint>
</robot>
